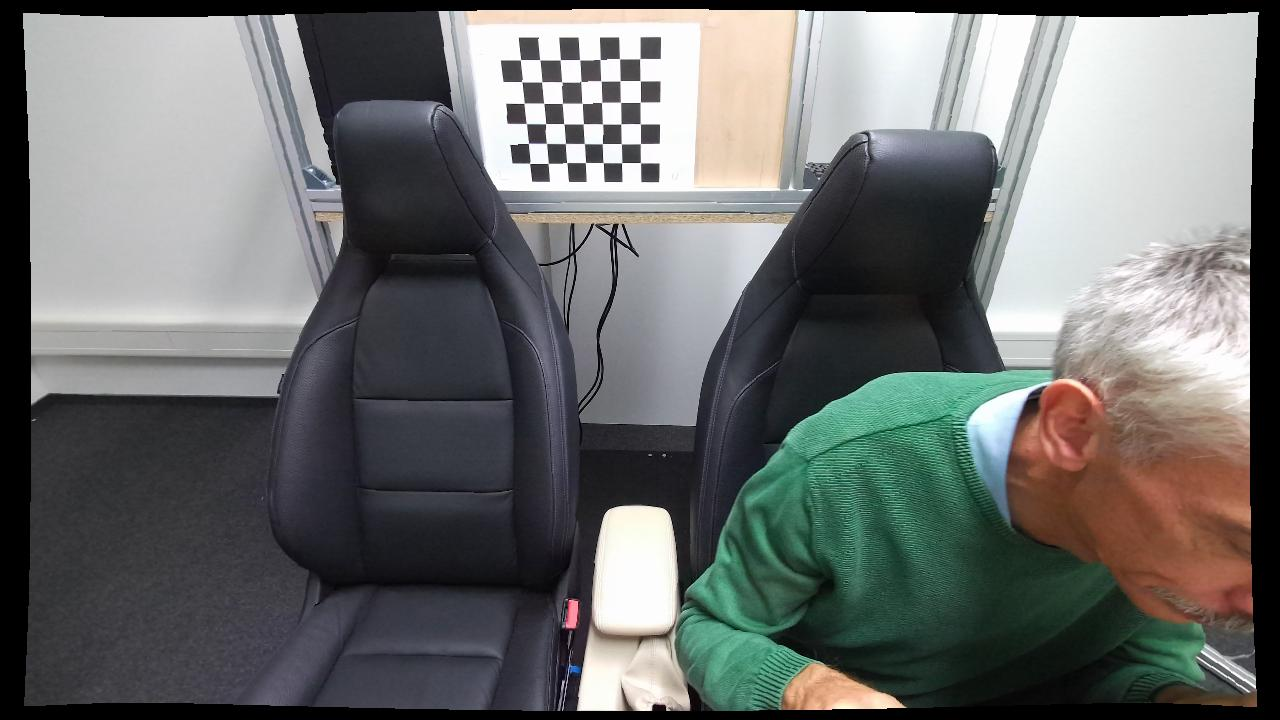Distracted: (664, 229, 1252, 714)
